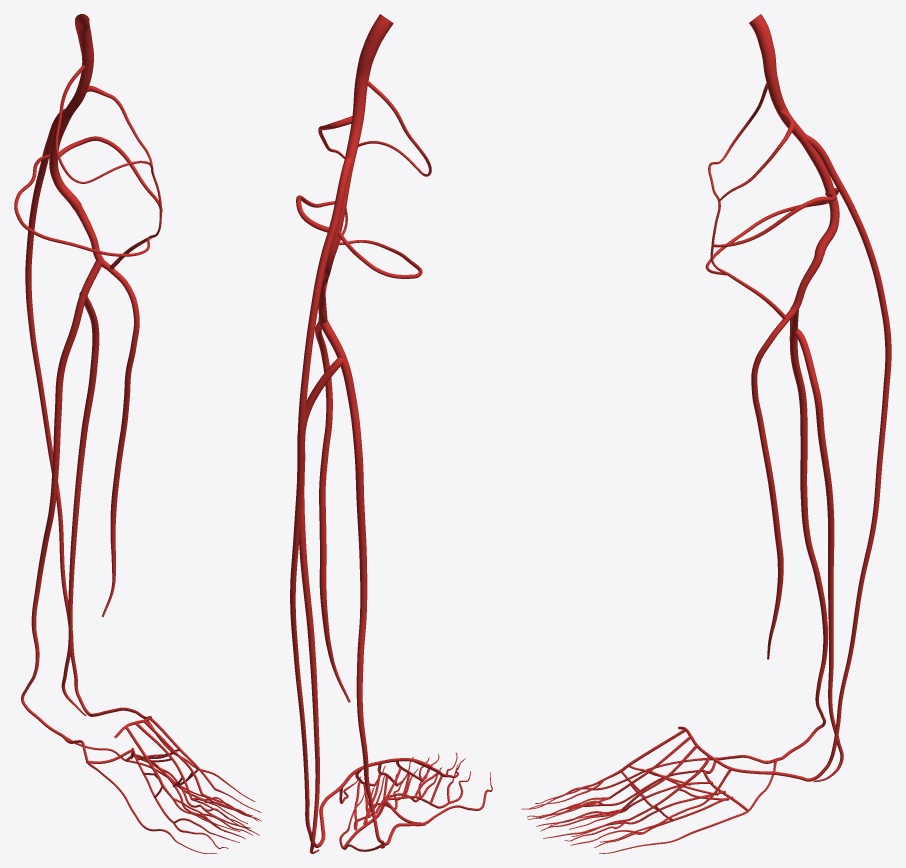
Rendered from circulatorio-popliteal-vein-l.glb.
The picture shows the model from 3 angles, left to right: view 1: azimuth 30°, elevation 25°; view 2: azimuth 150°, elevation 25°; view 3: azimuth 270°, elevation 25°; orthographic projection. The views are drawn at different scales.
Visible parts, largest first — view 1: Small saphenous vein.l, Posterior tibial veins.l, Genicular veins.l, Anterior tibial veins.l, Fibular veins.l, Popliteal vein.l, Dorsal metatarsal veins.l, Plantar digital veins.l, Dorsal digital veins of foot.l, Plantar metatarsal veins.l; view 2: Small saphenous vein.l, Posterior tibial veins.l, Fibular veins.l, Anterior tibial veins.l, Popliteal vein.l, Genicular veins.l, Plantar digital veins.l, Intercapitular veins of foot.l, Dorsal venous arch of foot.l, Dorsal metatarsal veins.l, Plantar metatarsal veins.l; view 3: Small saphenous vein.l, Posterior tibial veins.l, Fibular veins.l, Anterior tibial veins.l, Popliteal vein.l, Genicular veins.l, Plantar digital veins.l, Dorsal metatarsal veins.l, Dorsal digital veins of foot.l, Plantar metatarsal veins.l.
Part boxes in pixels (x1,y1,x2,y2): Small saphenous vein.l: (25,108,118,716); Posterior tibial veins.l: (21,260,101,736); Genicular veins.l: (14,65,162,269); Anterior tibial veins.l: (74,206,139,616); Fibular veins.l: (61,292,99,716); Popliteal vein.l: (49,14,93,209); Dorsal metatarsal veins.l: (125,718,221,799); Plantar digital veins.l: (128,760,261,853); Dorsal digital veins of foot.l: (172,779,261,832); Plantar metatarsal veins.l: (131,747,203,823); Small saphenous vein.l: (290,157,351,847); Posterior tibial veins.l: (319,320,384,848); Fibular veins.l: (297,358,344,853); Anterior tibial veins.l: (315,284,350,702); Popliteal vein.l: (322,14,393,284); Genicular veins.l: (296,81,431,319); Plantar digital veins.l: (339,764,492,848); Intercapitular veins of foot.l: (354,768,442,829); Dorsal venous arch of foot.l: (319,758,432,812); Dorsal metatarsal veins.l: (339,761,450,803); Plantar metatarsal veins.l: (353,793,449,830); Small saphenous vein.l: (777,134,891,781); Posterior tibial veins.l: (778,309,827,760); Fibular veins.l: (794,329,843,782); Anterior tibial veins.l: (751,253,823,659); Popliteal vein.l: (749,14,839,254); Genicular veins.l: (705,83,838,319); Plantar digital veins.l: (521,779,748,853); Dorsal metatarsal veins.l: (604,729,731,828); Dorsal digital veins of foot.l: (528,779,646,842); Plantar metatarsal veins.l: (603,769,733,833).
Bounding box in the file's own units: 0.1099 × 0.5683 × 0.2404.
